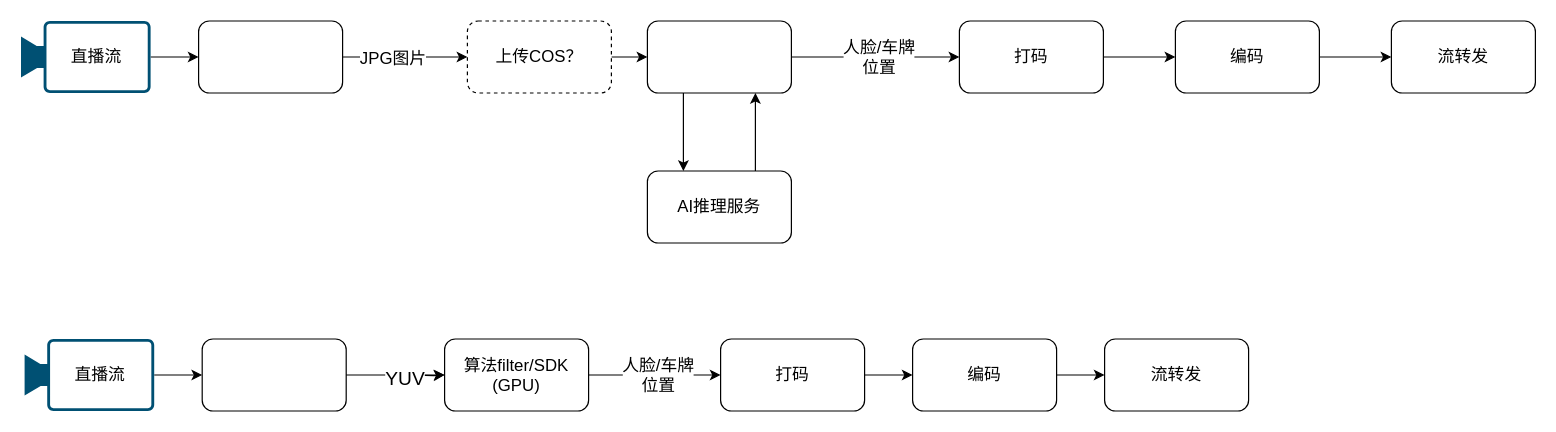
The diagram is 1556 pixels wide and 432 high, and some of its shapes have lost their labels. Here are the shapes that lost their labels. From the top down, the box of each, then its label:
(197, 20, 343, 93): 截帧
(646, 20, 791, 93): CGI
(201, 338, 346, 411): 解码
